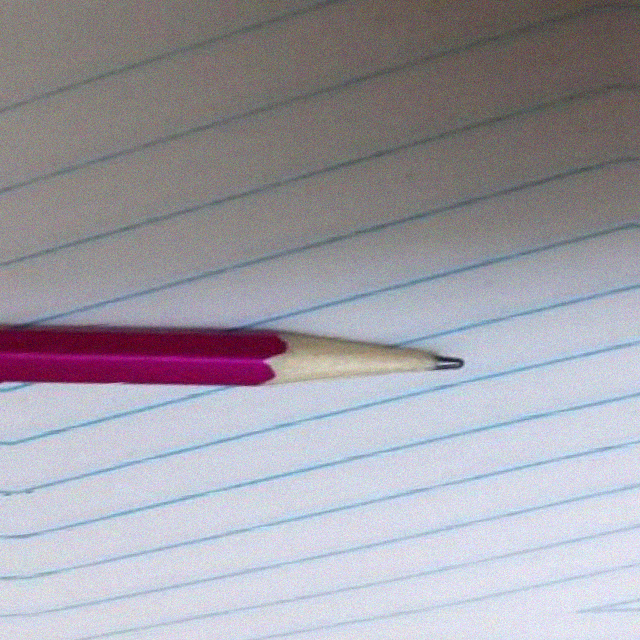pencil: (244, 321, 464, 405)
